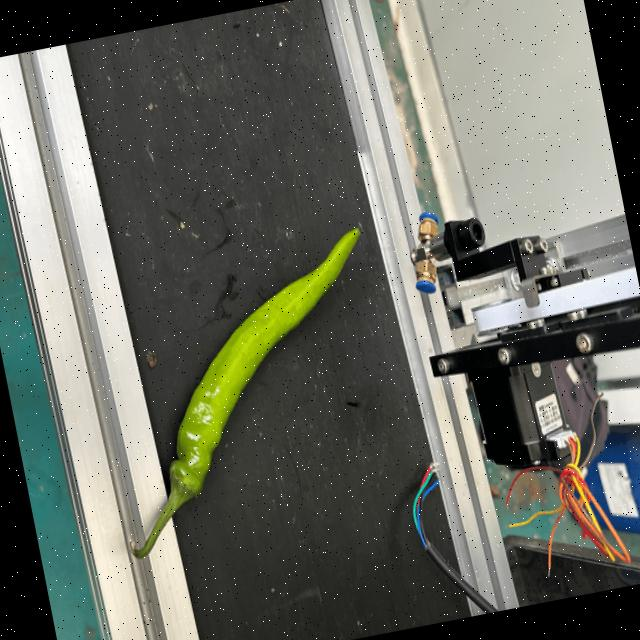chili: (166, 222, 361, 499)
